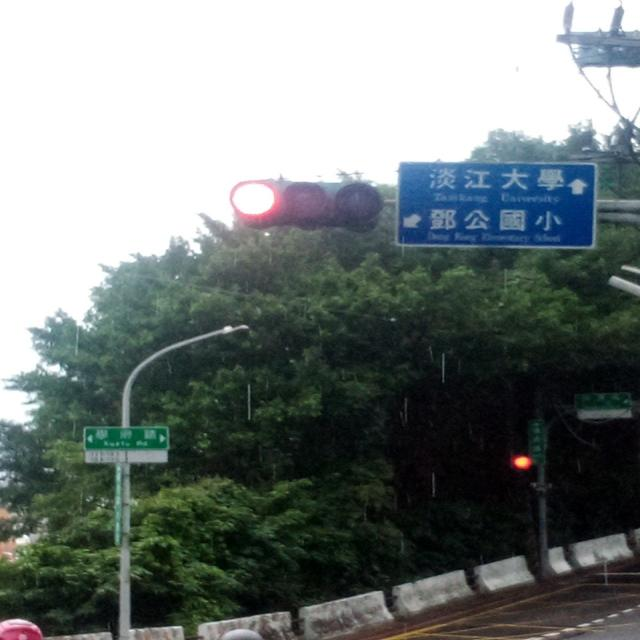red light: (228, 177, 388, 229)
